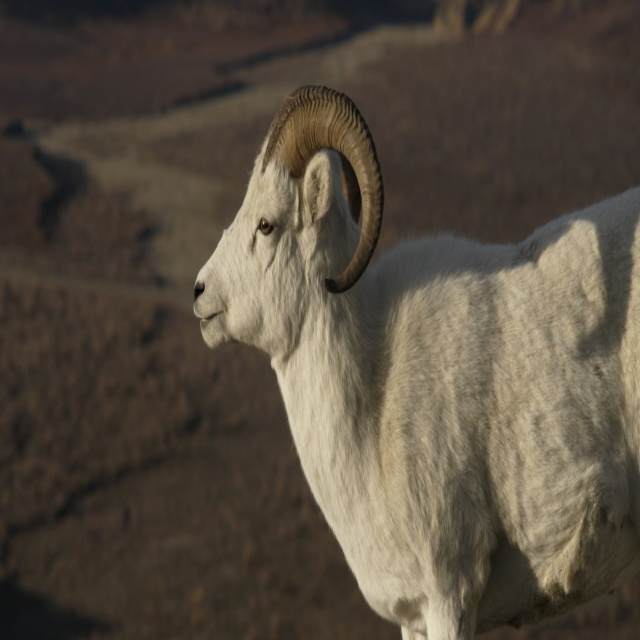Goat: (194, 87, 640, 639)
